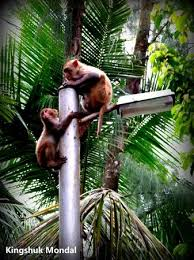monkey: (9, 8, 169, 238)
